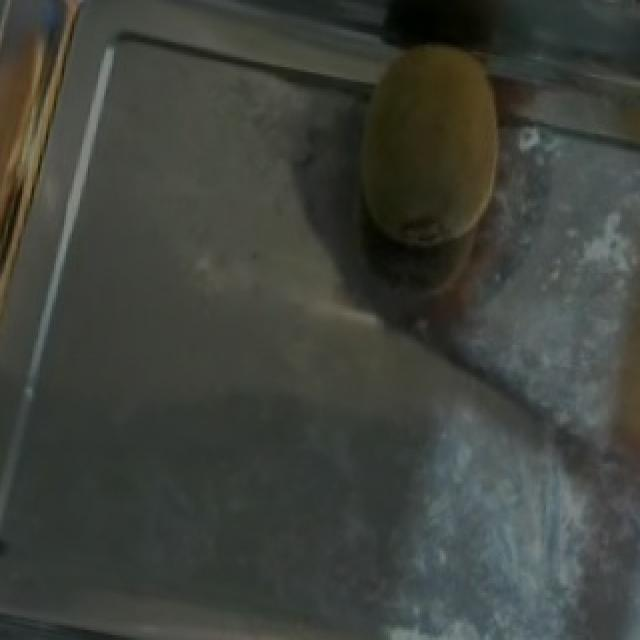Fruit: (322, 27, 540, 278), (0, 2, 136, 286), (578, 255, 640, 516)
